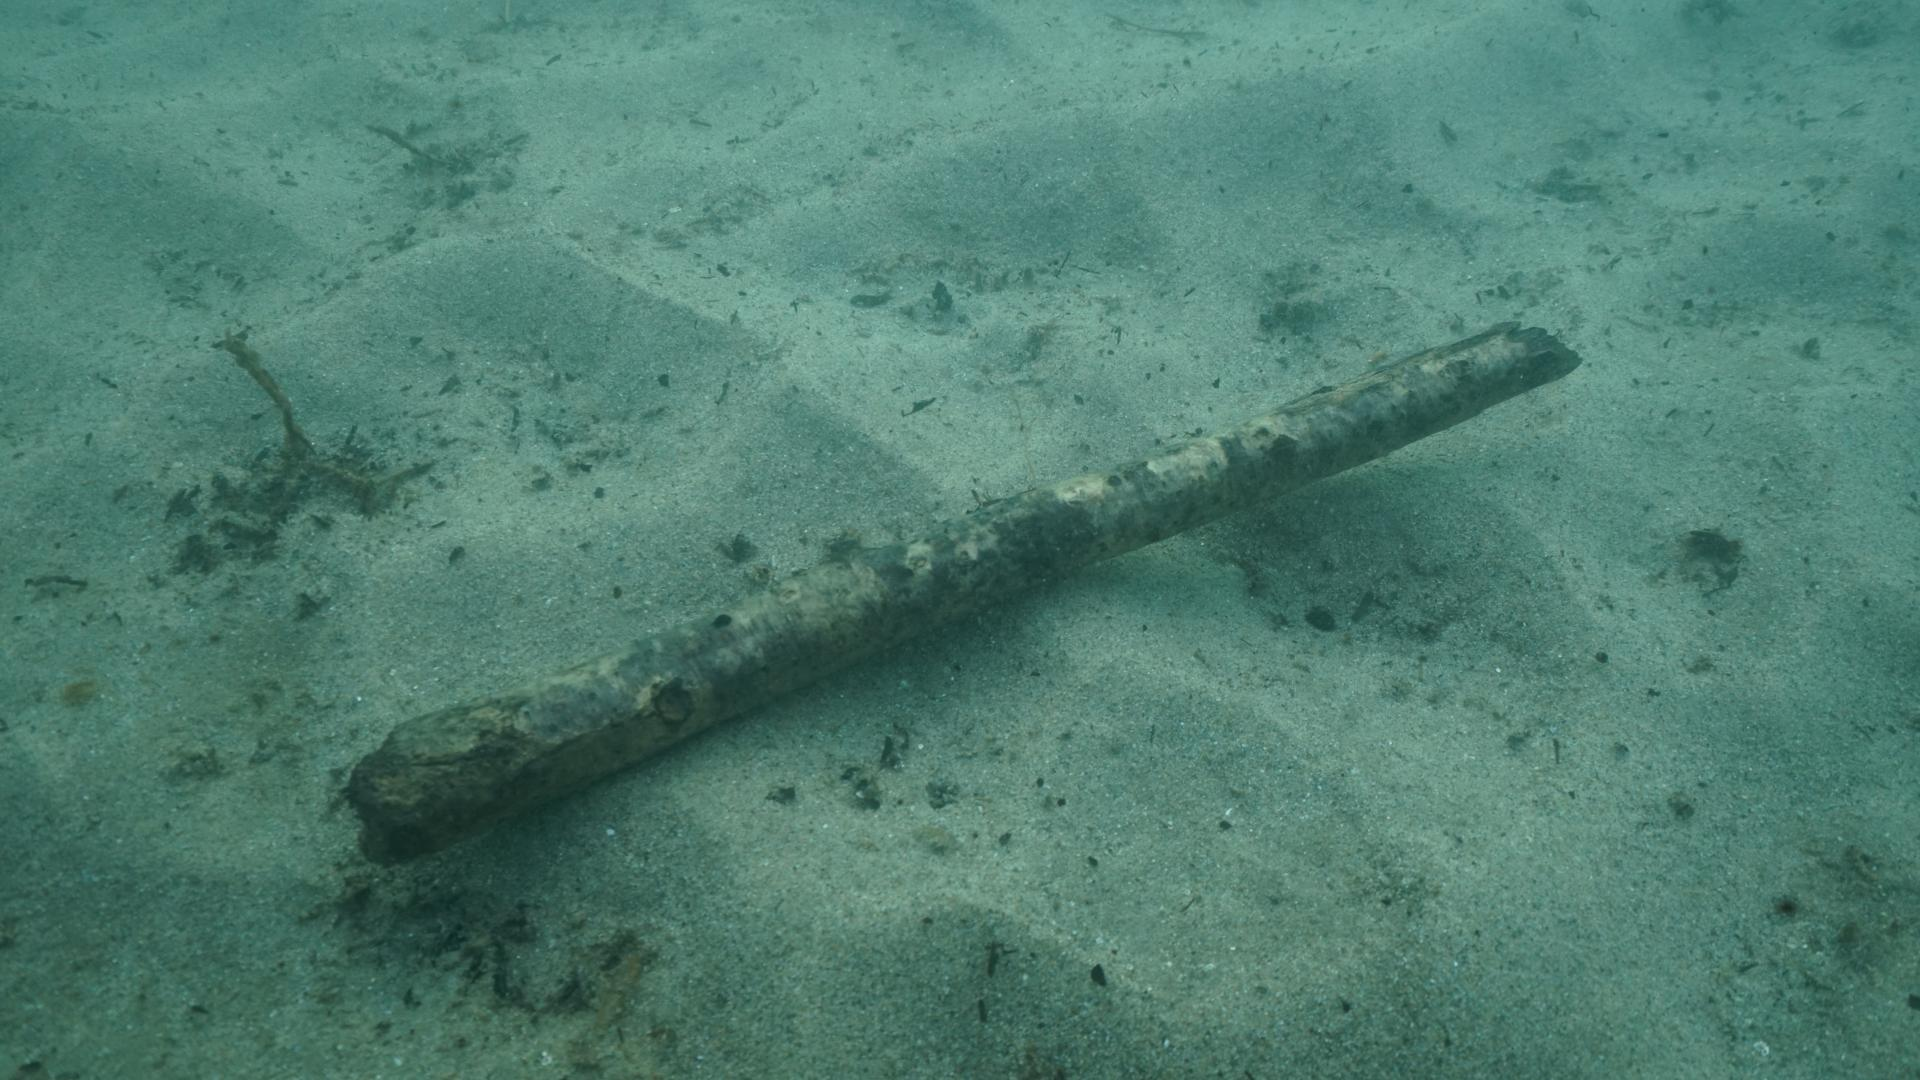wood: (343, 318, 1585, 864)
